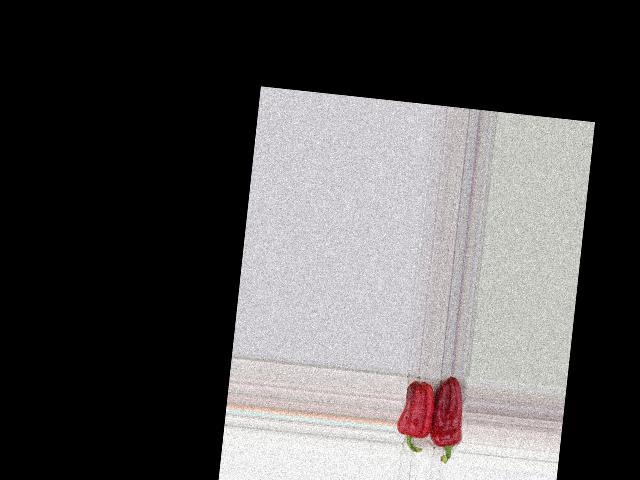bell_pepper: (426, 375, 467, 467)
